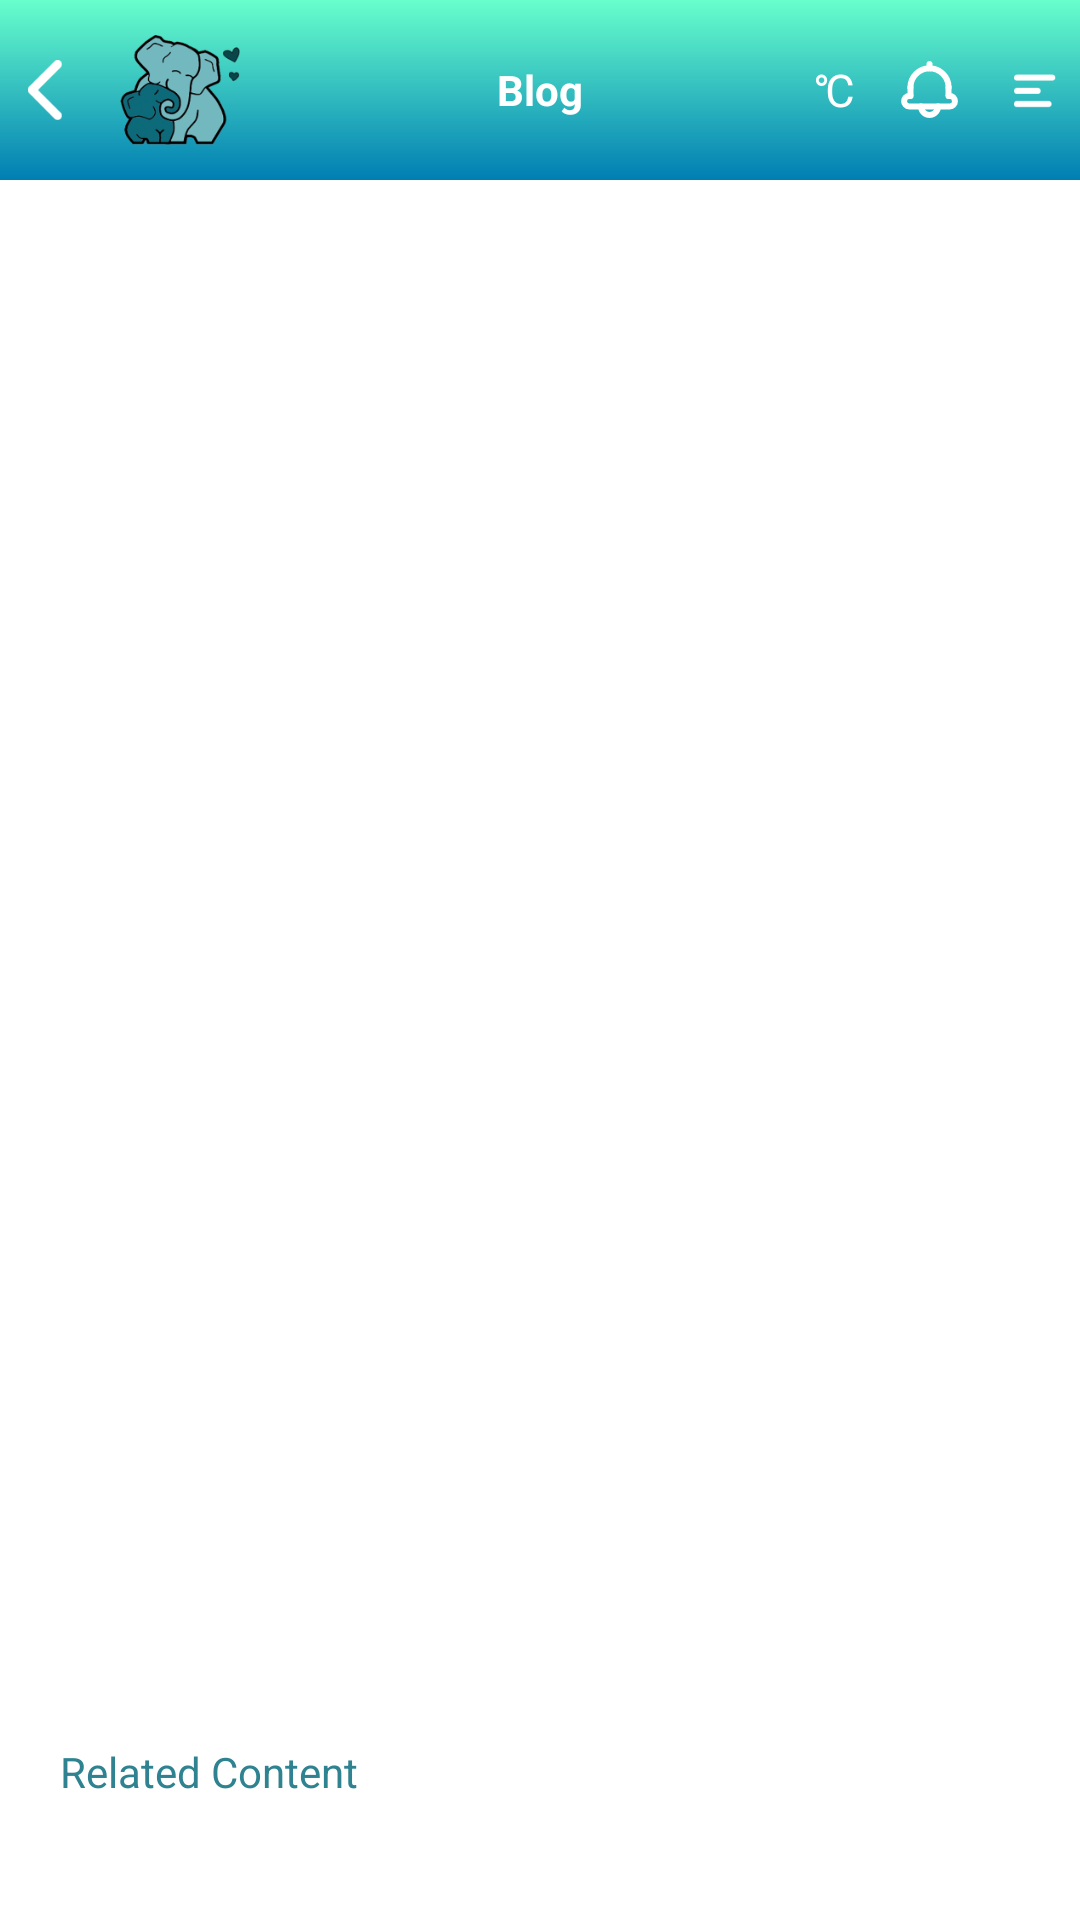

Point at icon controls on the screen. Image size 1080*1920, points as [x,y].
back: [45,90]
menu: [1035,90]
notifications: [930,90]
